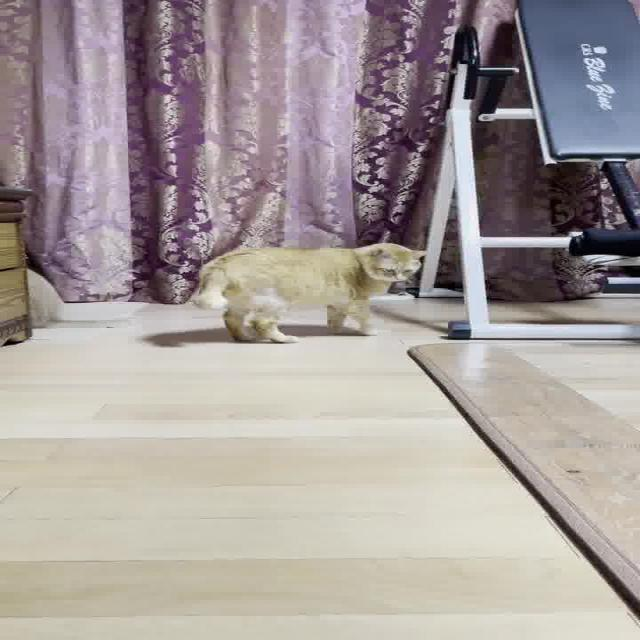cat: (156, 237, 446, 357)
